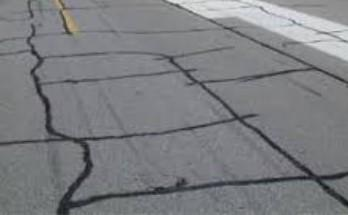crack: (165, 53, 348, 215), (161, 0, 348, 88), (26, 24, 95, 214), (1, 109, 258, 150), (97, 169, 348, 203), (1, 22, 255, 44), (241, 0, 348, 47), (184, 65, 319, 91), (37, 67, 201, 86), (36, 49, 169, 65), (154, 42, 240, 61), (204, 1, 259, 14), (56, 0, 74, 37), (1, 47, 34, 60), (22, 0, 40, 19)
